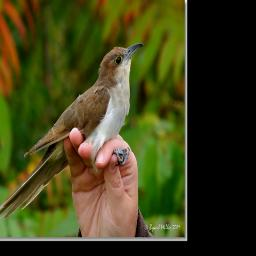Cuckoo: (0, 39, 144, 222)
